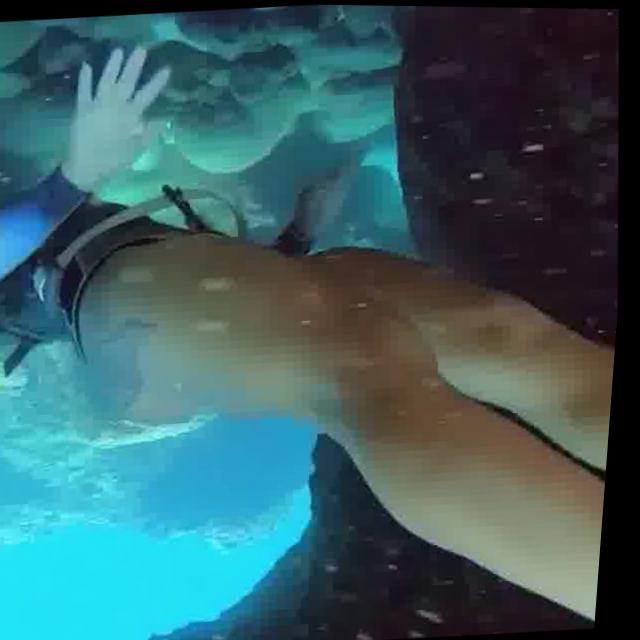human: (0, 3, 640, 640)
